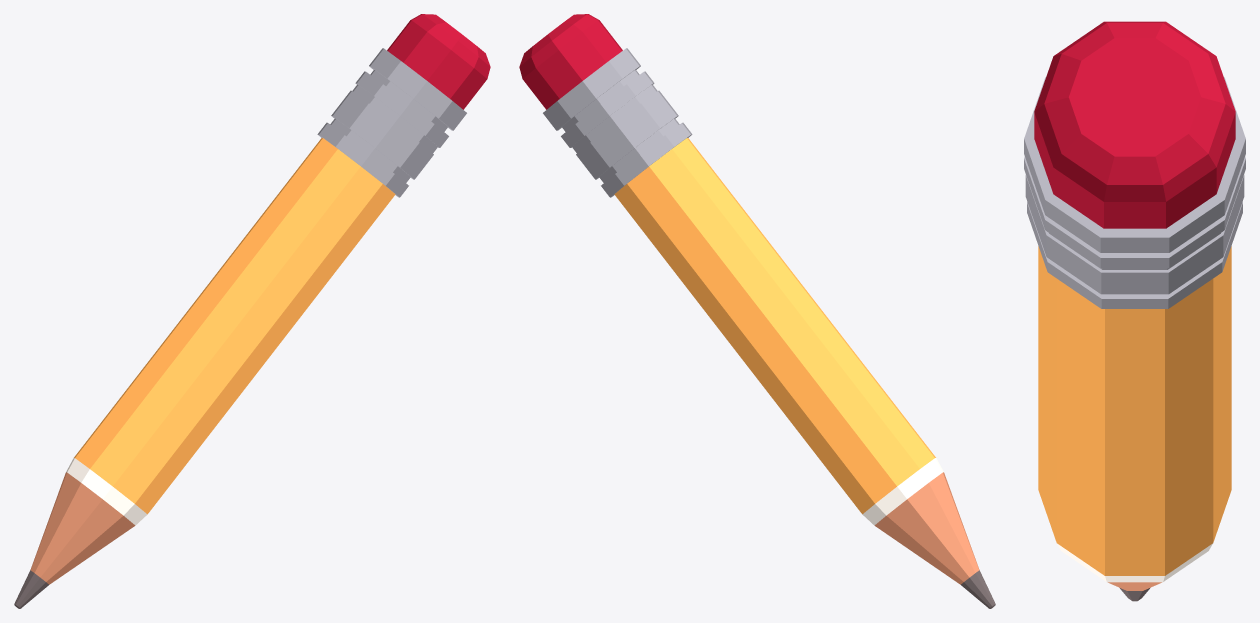
Rendered from pencil-v2.glb.
3 renders of one model, left to right at view 1: azimuth 30°, elevation 25°; view 2: azimuth 150°, elevation 25°; view 3: azimuth 270°, elevation 25°, orthographic. The views are drawn at different scales.
Parts seen in each view (by area): view 1: Cylinder; view 2: Cylinder; view 3: Cylinder.
Part boxes in pixels (x1=…): Cylinder: x1=14, y1=14, x2=490, y2=608; Cylinder: x1=519, y1=14, x2=995, y2=608; Cylinder: x1=1024, y1=21, x2=1245, y2=601.
Size of the model in its own units: 3.2 by 3.2 by 0.6586.
Materials: 1 (1 with a texture image).
